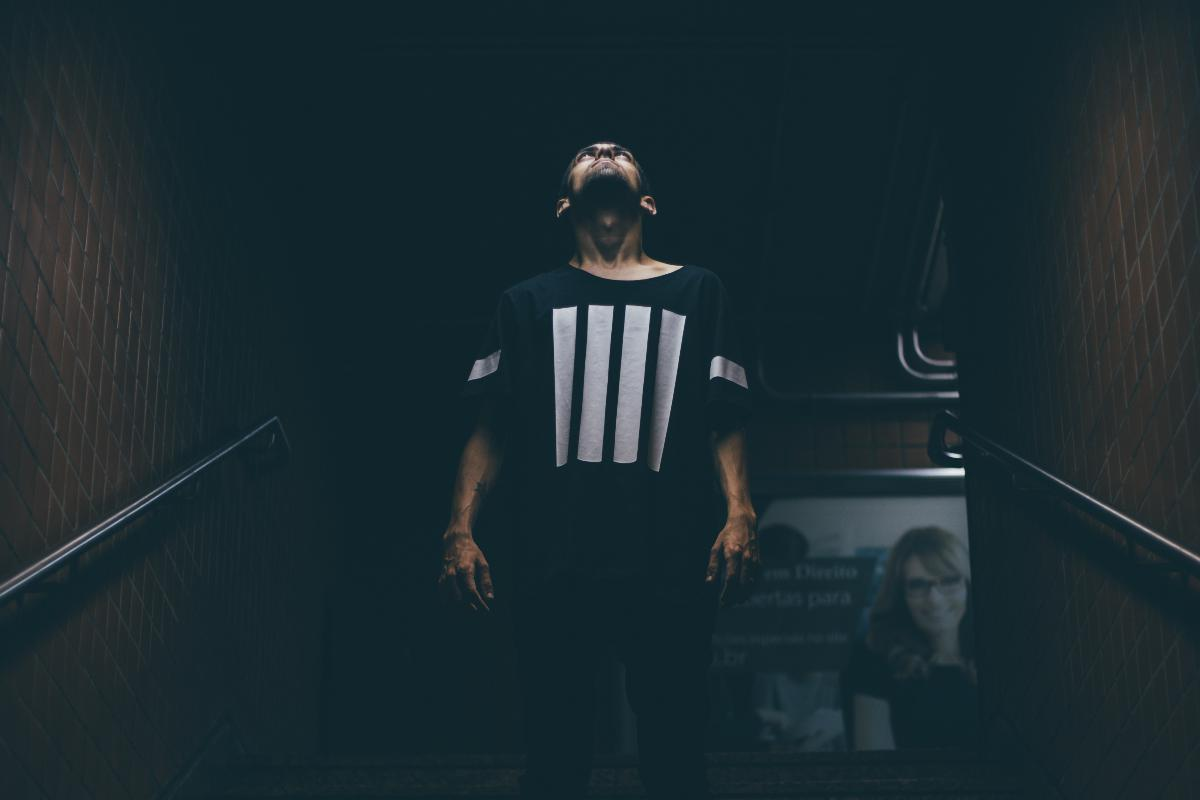Person: (439, 129, 768, 800)
